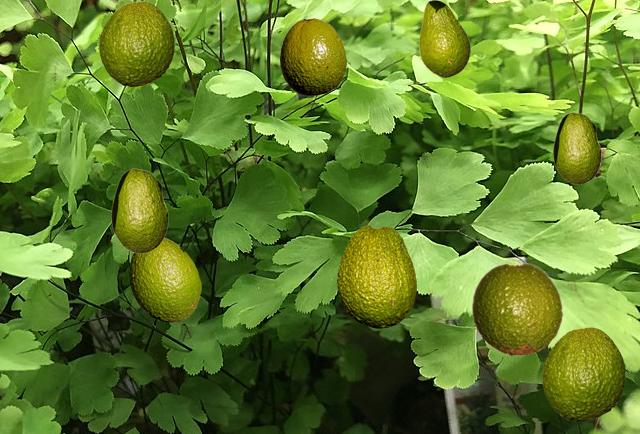avocado: (471, 262, 563, 355), (337, 225, 415, 327), (542, 327, 624, 420), (99, 1, 173, 85), (129, 237, 200, 321), (280, 18, 345, 94), (111, 168, 167, 252), (419, 0, 469, 76), (553, 112, 600, 183)
